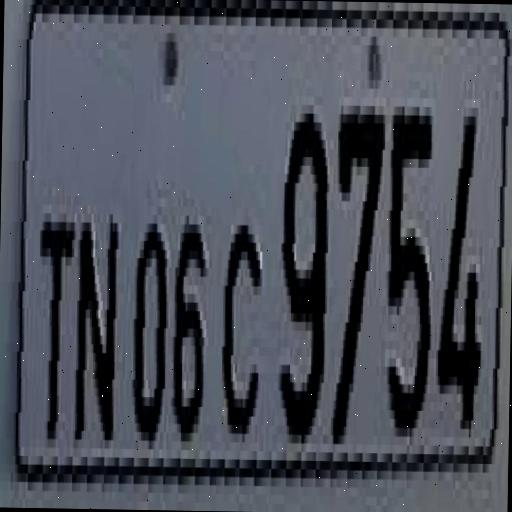number plate: (3, 12, 512, 512)
